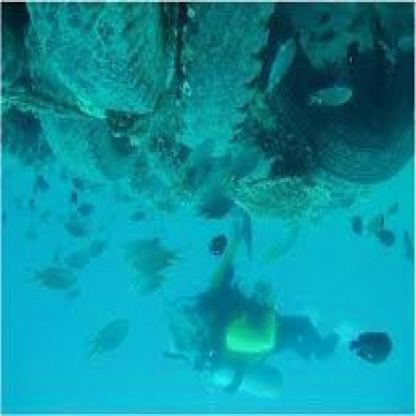tire: (255, 32, 416, 178), (29, 2, 175, 116), (34, 73, 152, 208)
